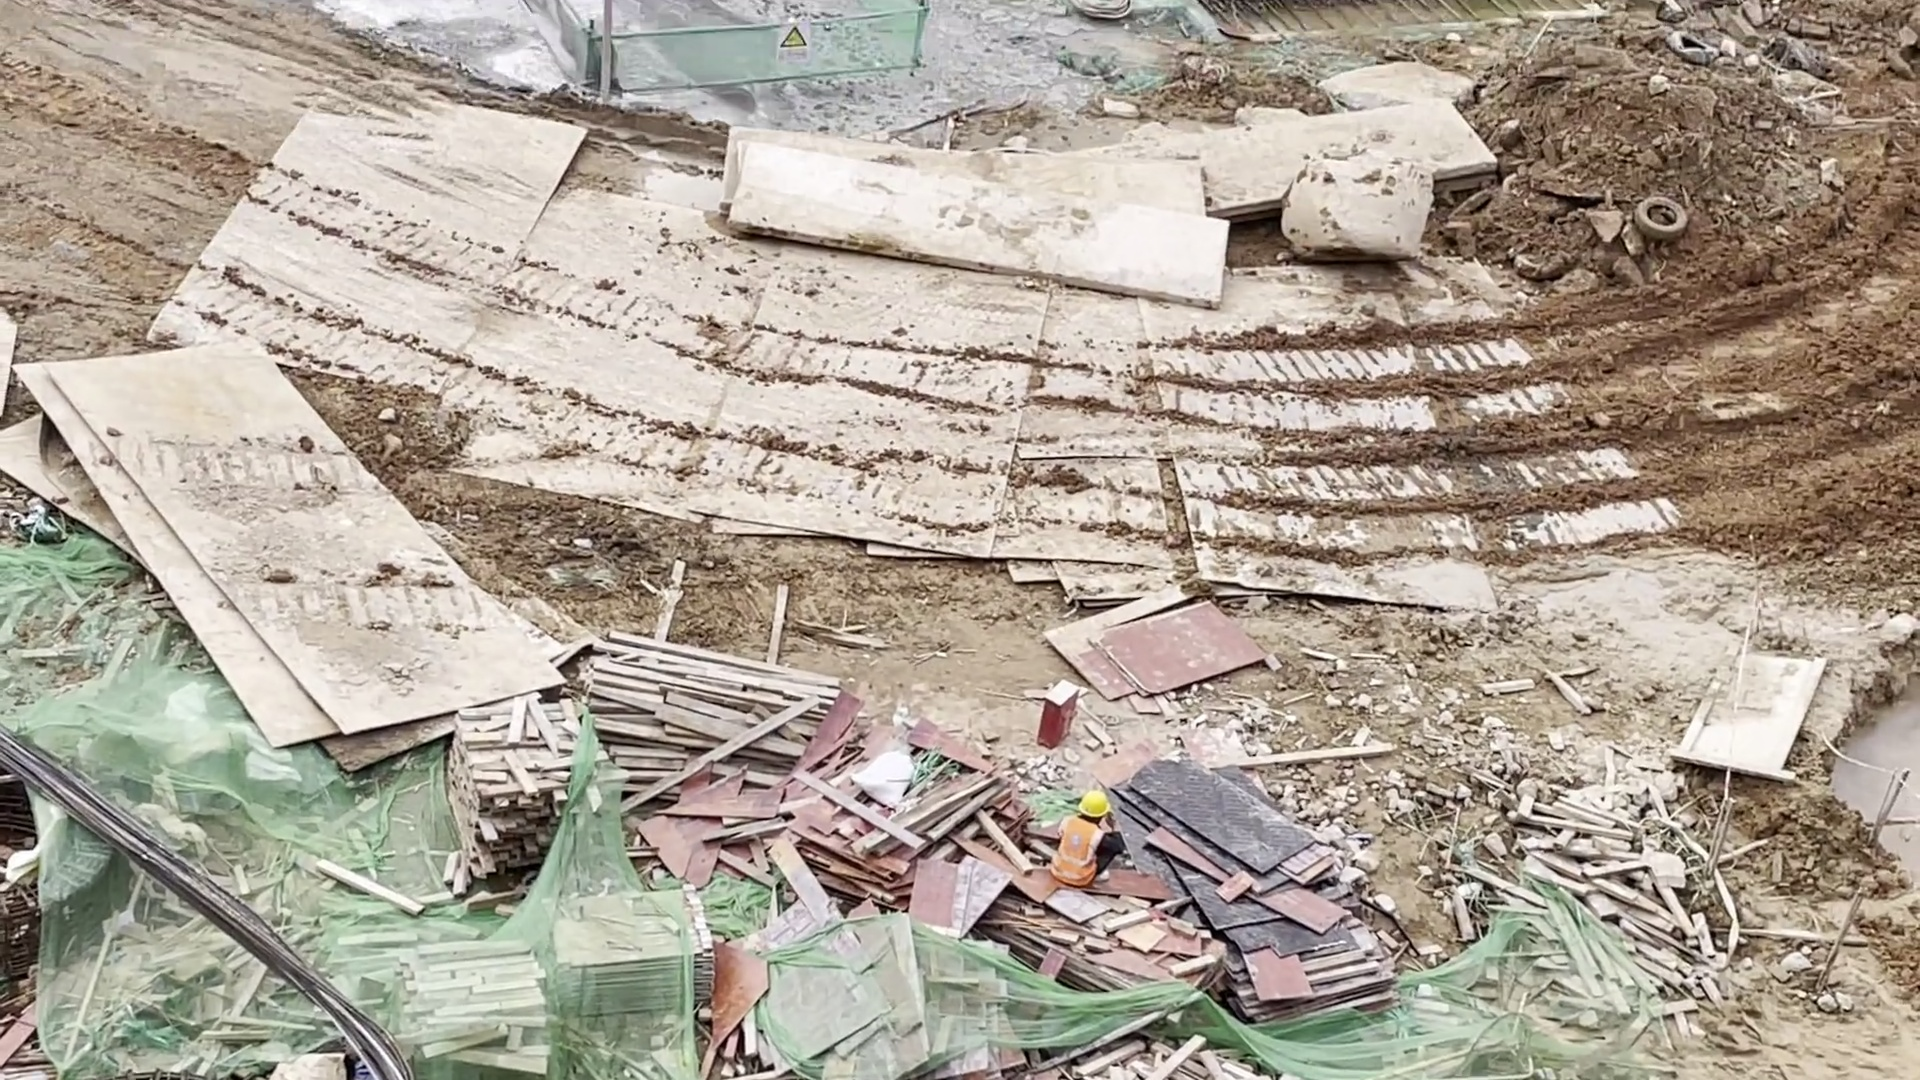helmet: (1078, 788, 1111, 819)
person: (1049, 787, 1128, 885)
vest: (1051, 817, 1101, 887)
wood: (444, 634, 822, 868)
